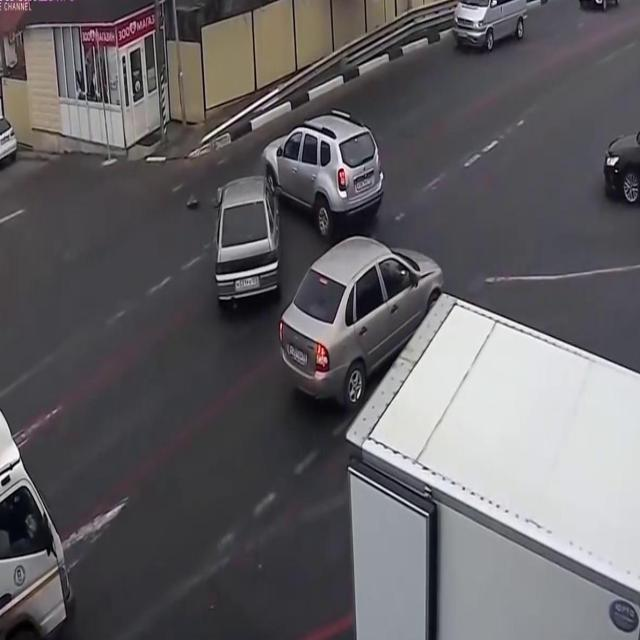accident: (181, 96, 391, 320)
non_accident: (277, 224, 640, 639)
